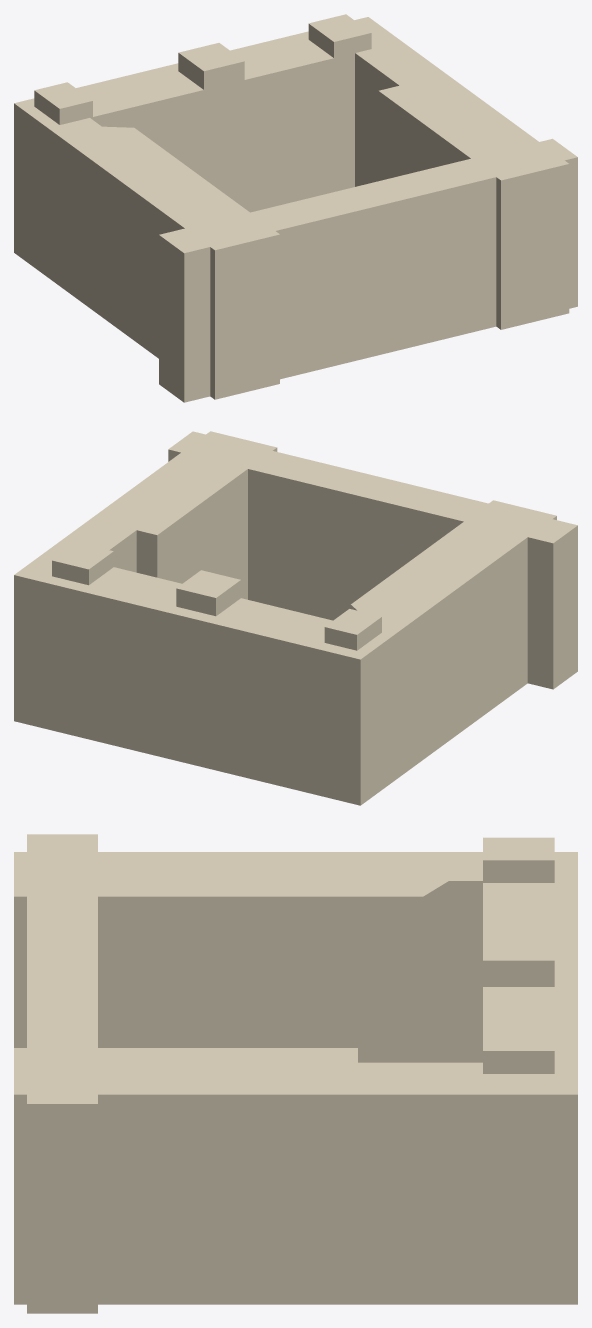
The model's file is SM_Belt_Quadrangle.fbx.
3 views of the same model, one above another, from view 1: azimuth 30°, elevation 25°; view 2: azimuth 150°, elevation 25°; view 3: azimuth 270°, elevation 25° (orthographic). The views are drawn at different scales.
Parts seen in each view (by area): view 1: SM_Belt_Quadrangle; view 2: SM_Belt_Quadrangle; view 3: SM_Belt_Quadrangle.
Part boxes in pixels (box(x1,y1,x2,y2)): SM_Belt_Quadrangle: box(14, 14, 577, 402); SM_Belt_Quadrangle: box(14, 431, 577, 805); SM_Belt_Quadrangle: box(14, 834, 577, 1313).
Size of the model in its own units: 76.98 by 31.41 by 68.03.
